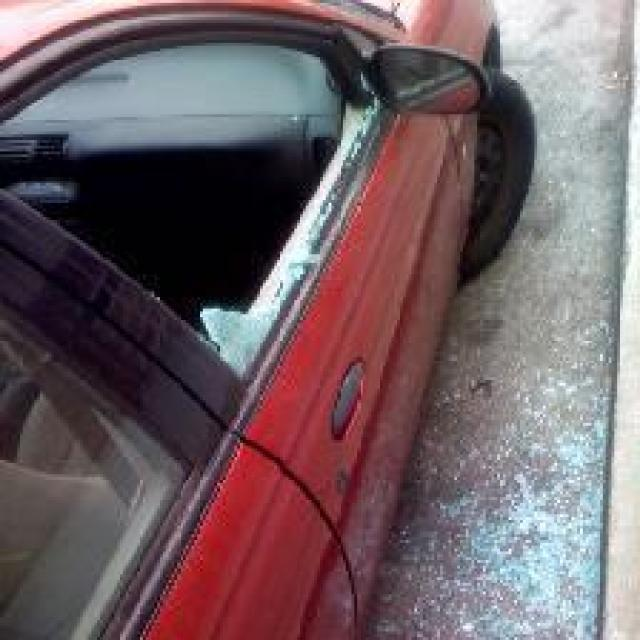damaged: (0, 28, 383, 380)
